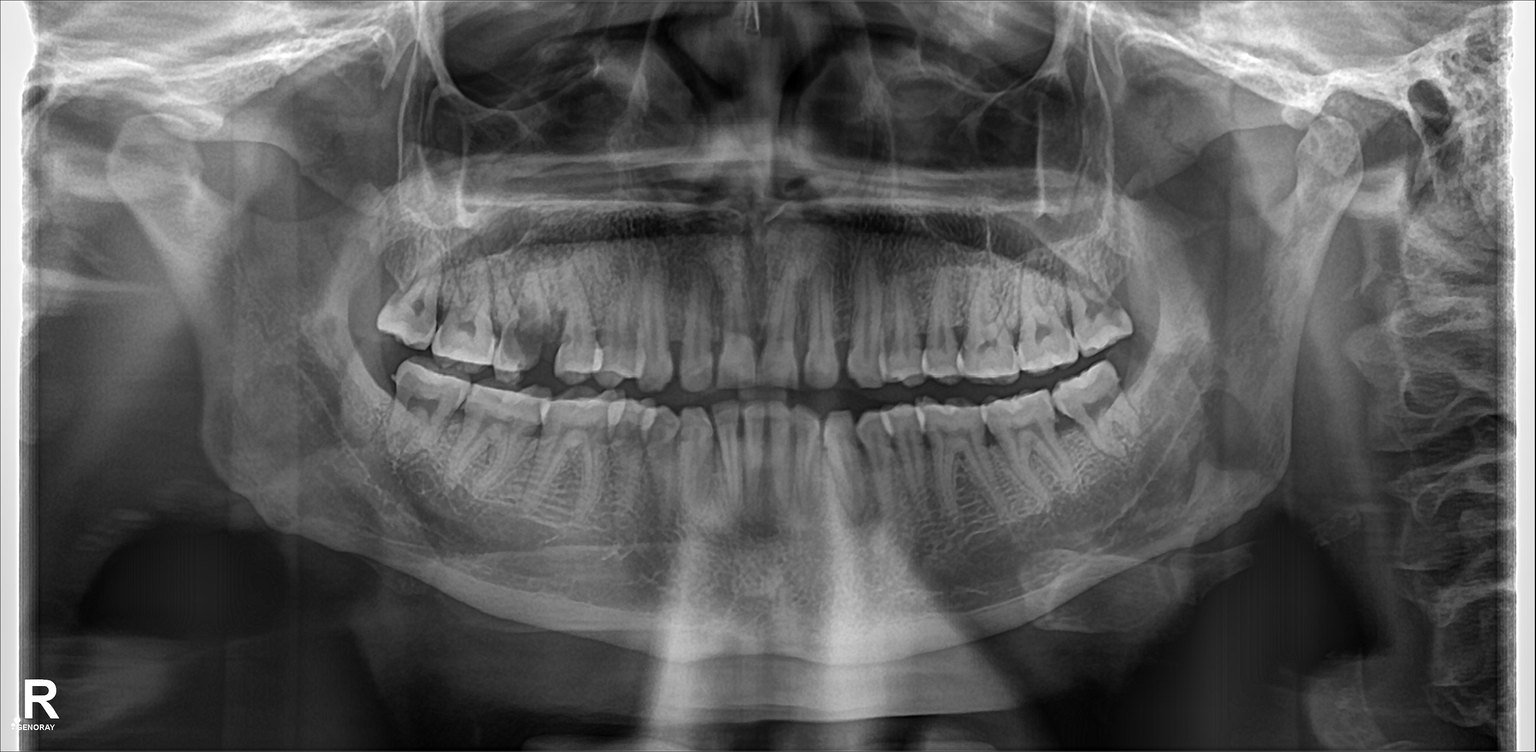Dental Caries: (507, 311, 565, 362)
Missing Tooth: (343, 335, 398, 444)
